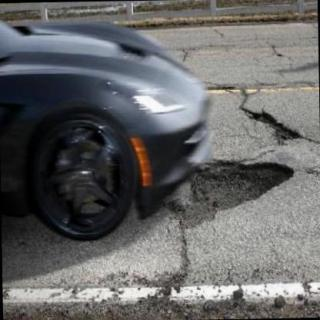pothole: (168, 162, 295, 229), (241, 108, 302, 145)
